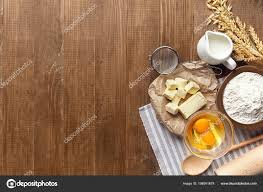Cheese: (163, 77, 212, 116)
Eggs: (187, 112, 237, 159)
